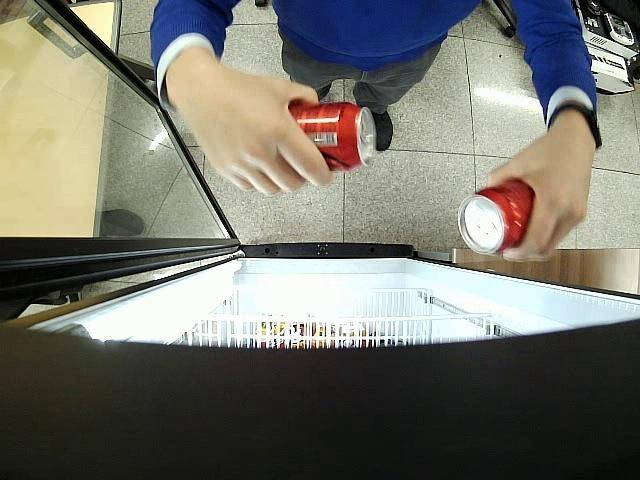11_cocaColaZero: (289, 101, 376, 171), (458, 182, 534, 255)
